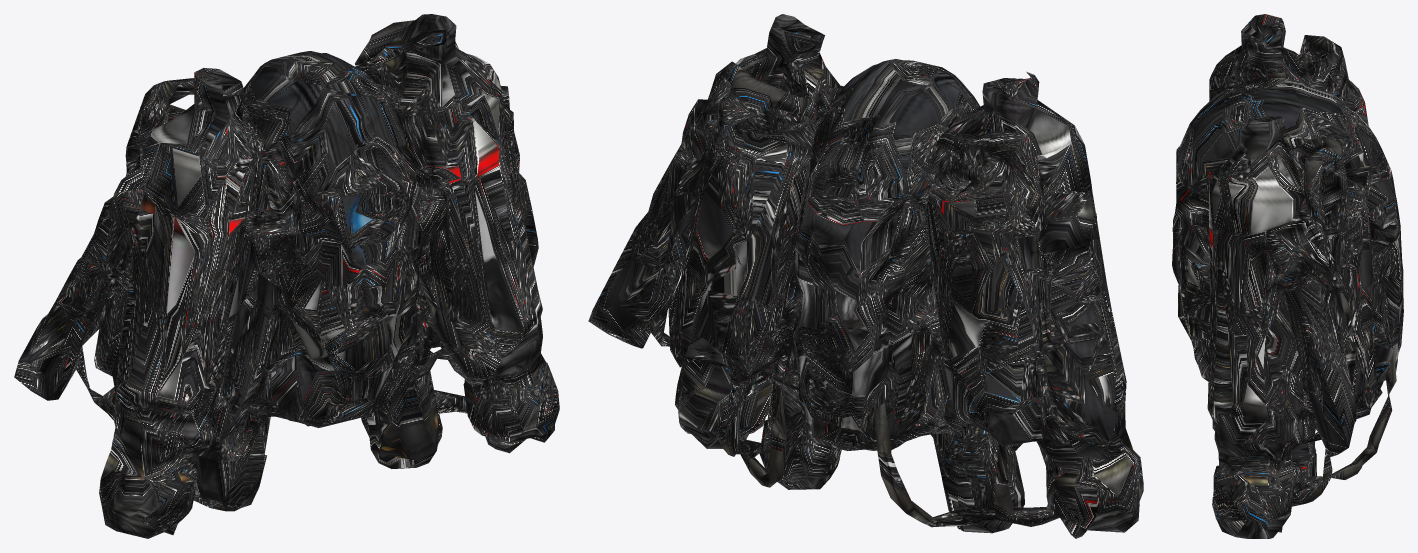
Rendered from jetpack.glb.
The picture shows the model from 3 angles, left to right: view 1: azimuth 30°, elevation 25°; view 2: azimuth 150°, elevation 25°; view 3: azimuth 270°, elevation 25°; orthographic projection. The views are drawn at different scales.
Size of the model in its own units: 0.7564 by 0.6091 by 0.3256.
1 material, 1 textured.
